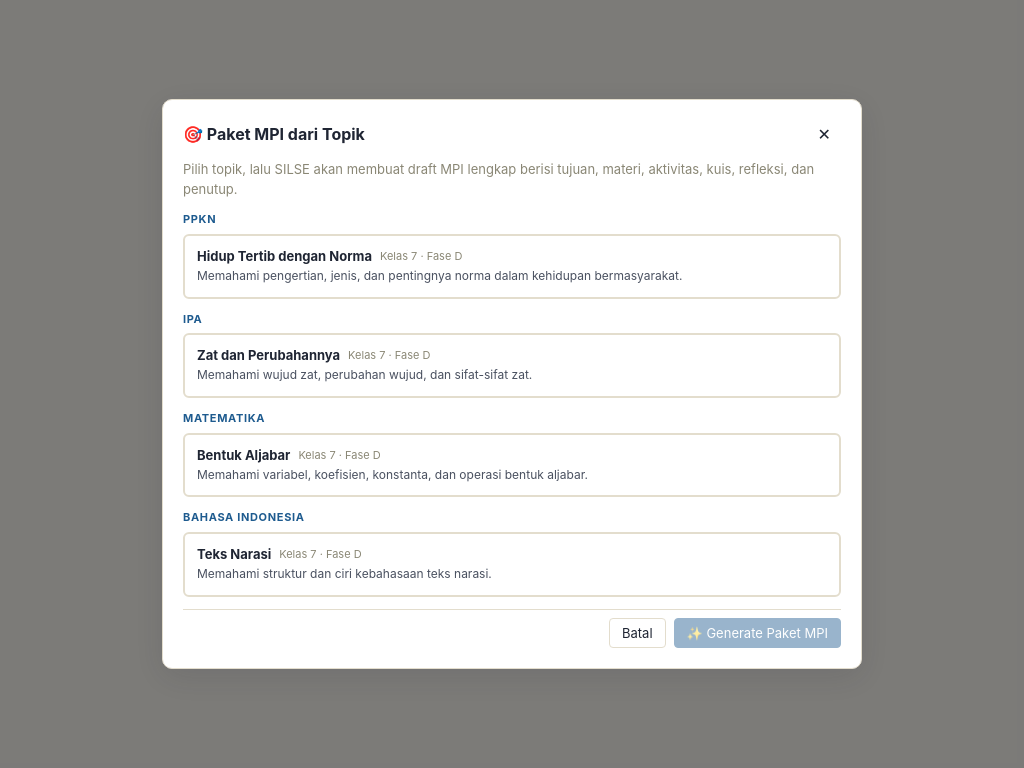
Test: GUIDED-FLOW-MANUAL-VERIFY-01 — select + generate PPKn › 2d. Generate PPKn produces result with 10 pages
Click the button with test id "guided-flow-topic-ppkn-7-norma" at (512, 266), box [183, 234, 841, 299]
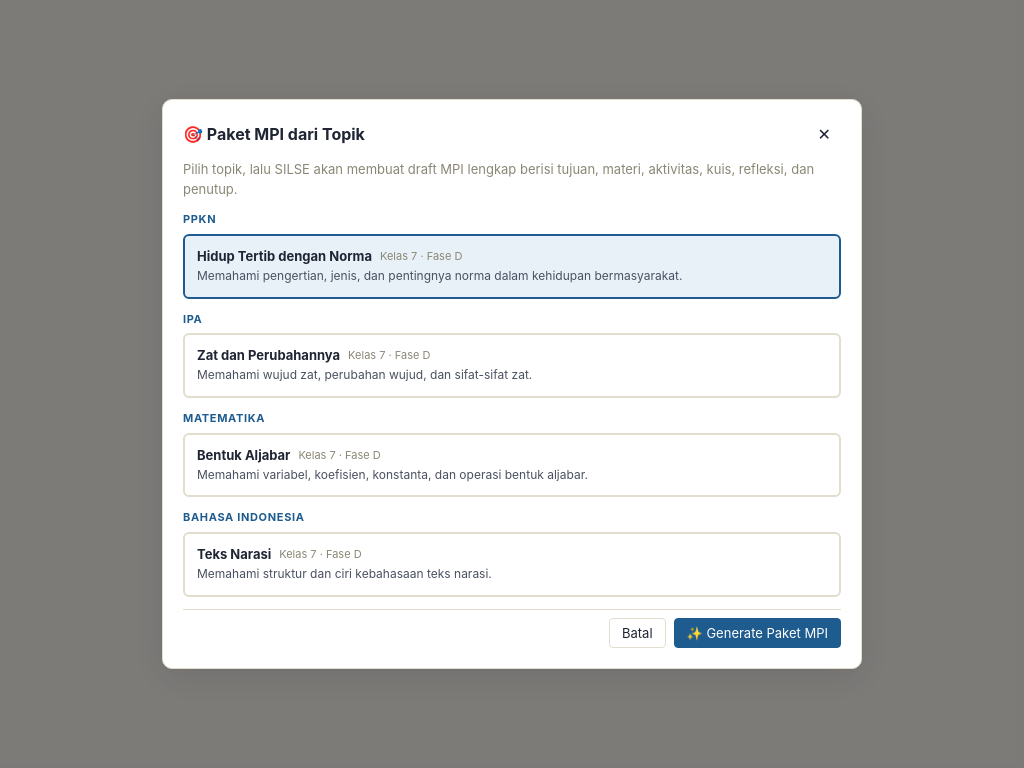
Click the button with test id "guided-flow-generate" at (757, 633), box [674, 618, 841, 648]
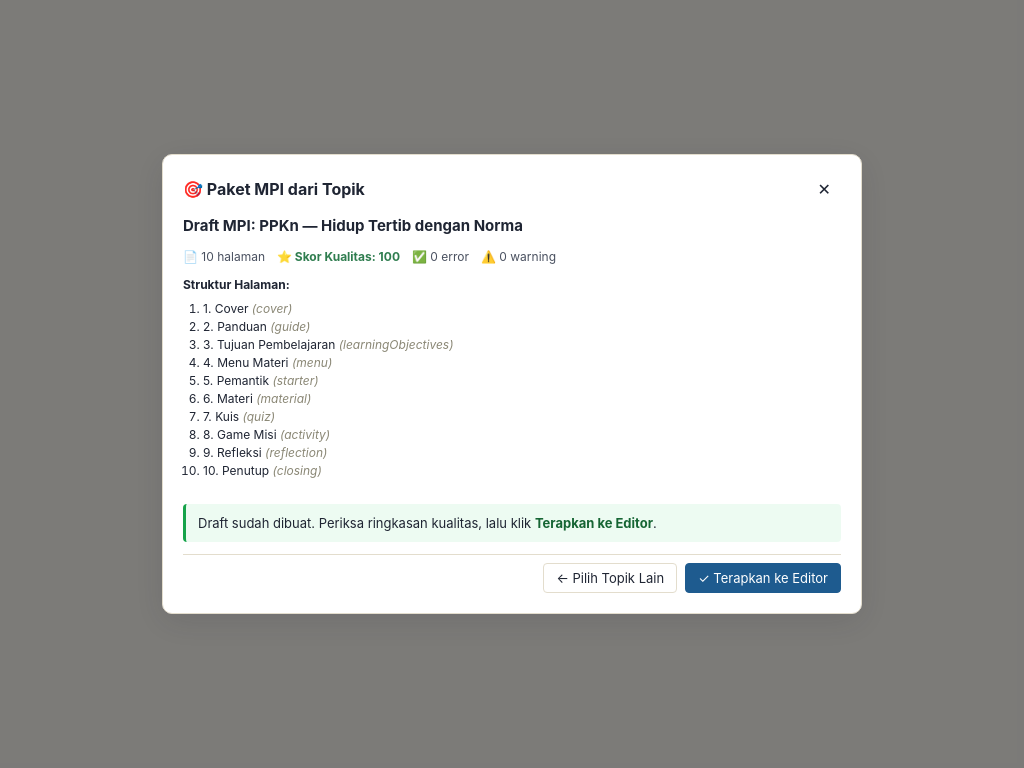
Expected: the button with test id "guided-flow-generate" is shown, [685, 563, 841, 593]
Now the text "10 halaman" is shown, box [183, 248, 265, 266]
